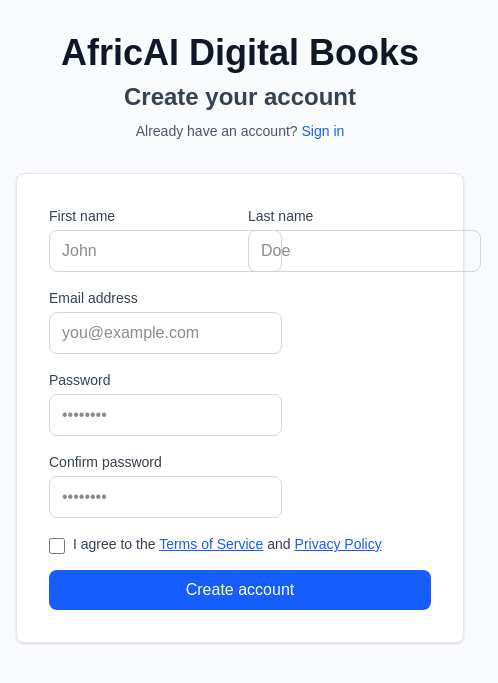
Test: RegisterPage › Password Strength Indicator › updates password strength for good password
Type "Password123" into the password field labelled "Password" at (166, 415), box [49,394,282,436]
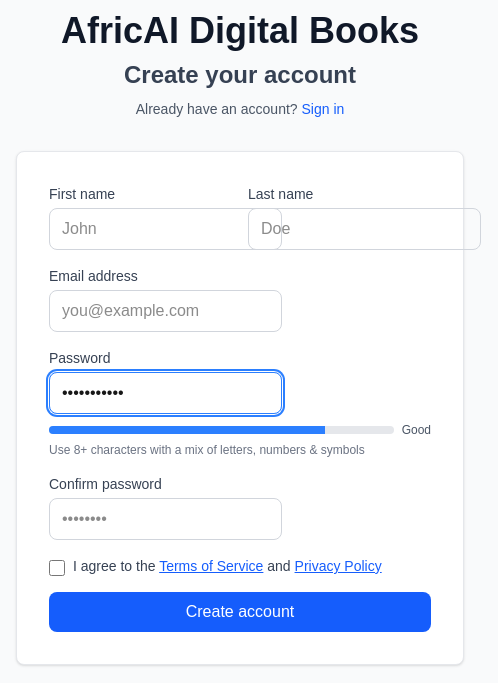
Now the text "Good" is shown, box [402,422,431,438]
